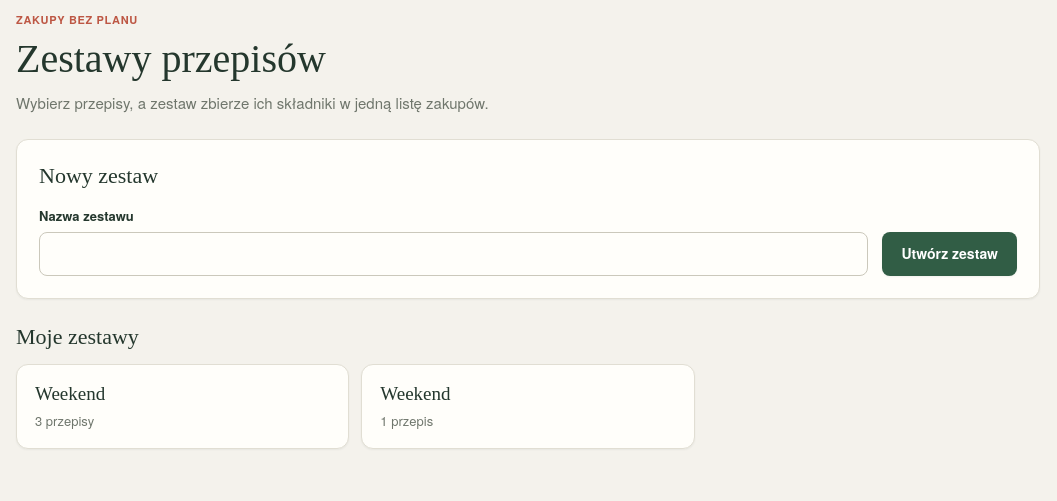
Test: recipe set list › shows the server's name error next to the field
Type "x" into the field labelled "Nazwa zestawu". click: (454, 254)
box: [39, 232, 868, 276]
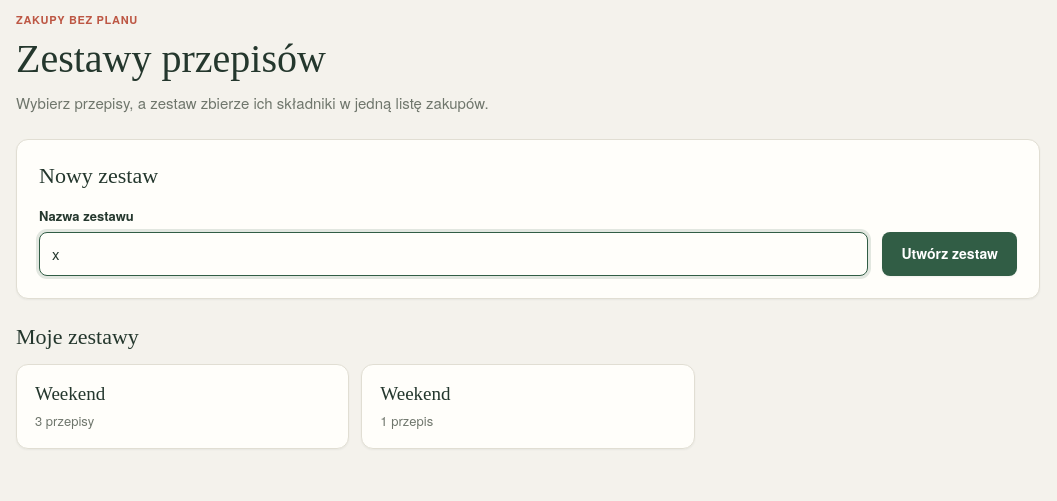
Click the button "Utwórz zestaw". click: (950, 254)
box: [882, 232, 1017, 276]
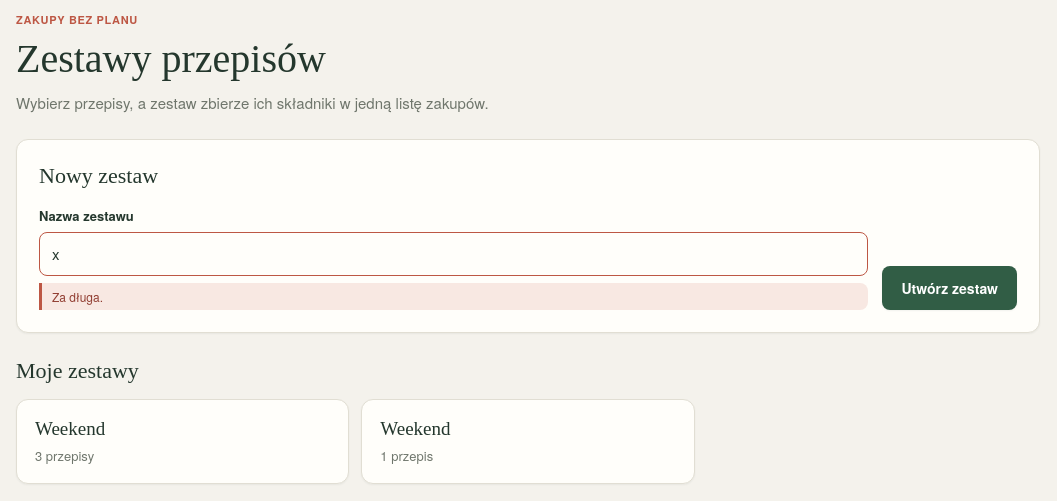
Now the message reads "Za długa.", box [52, 288, 103, 305]
